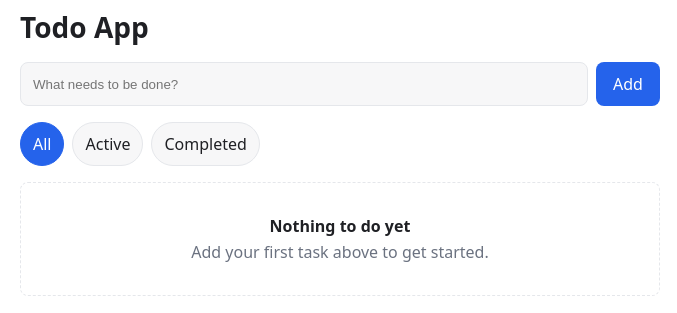
Test: App › shows the optimistic row immediately while the POST is in flight
The image size is (677, 313).
Expected: the text "Nothing to do yet" is shown, left=270, top=215, right=410, bottom=237
Type "buy milk" into the field named "New todo" at (304, 84), box left=20, top=62, right=588, bottom=106
Then press Enter
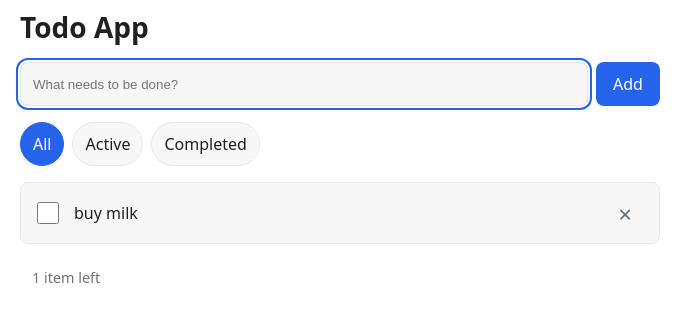
Result: the text "Nothing to do yet" is gone
